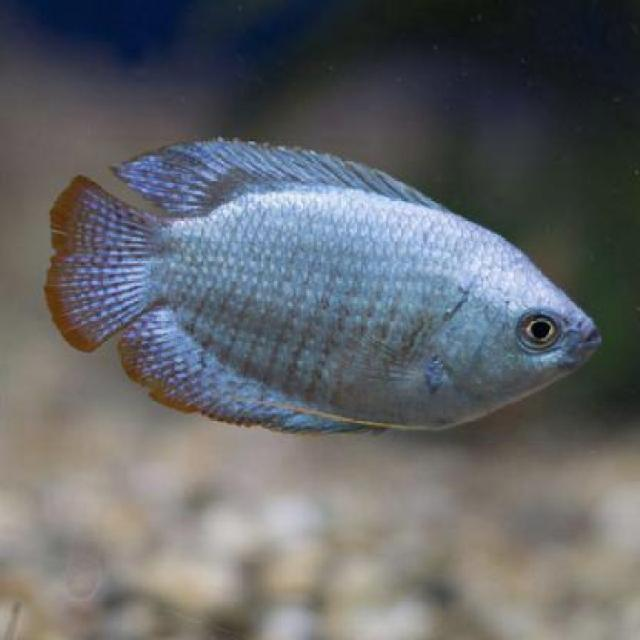Gourami: (49, 130, 600, 448)
